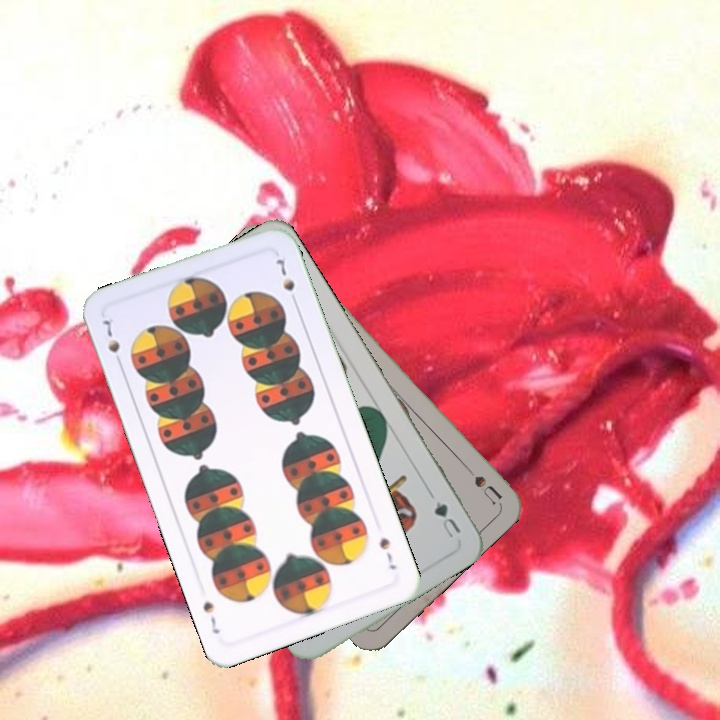GU: (430, 497, 464, 541)
S7: (98, 313, 125, 370), (375, 533, 400, 573)
SU: (456, 456, 505, 507)
